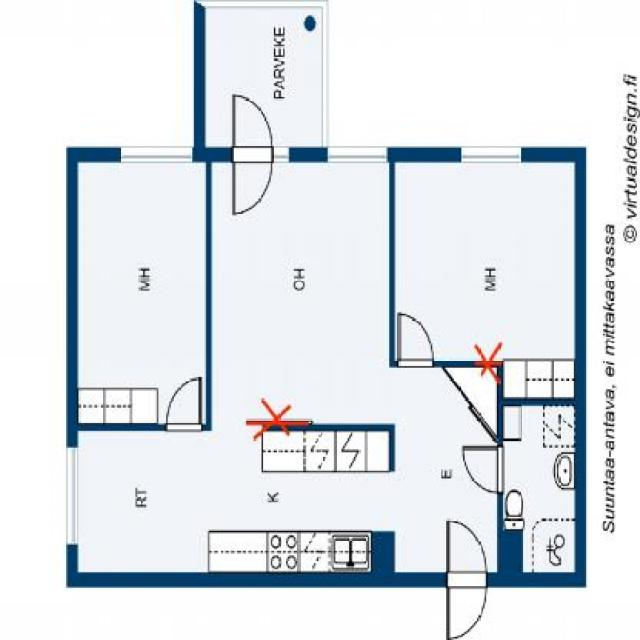door: (443, 518, 491, 640), (229, 94, 277, 212), (163, 372, 205, 437), (460, 438, 506, 496), (396, 314, 436, 375)
window: (65, 446, 80, 548), (462, 145, 520, 166), (118, 148, 194, 163), (328, 146, 389, 163)
zone: (77, 163, 500, 575), (394, 162, 574, 360), (78, 163, 208, 419), (205, 8, 320, 148), (503, 406, 577, 574)
